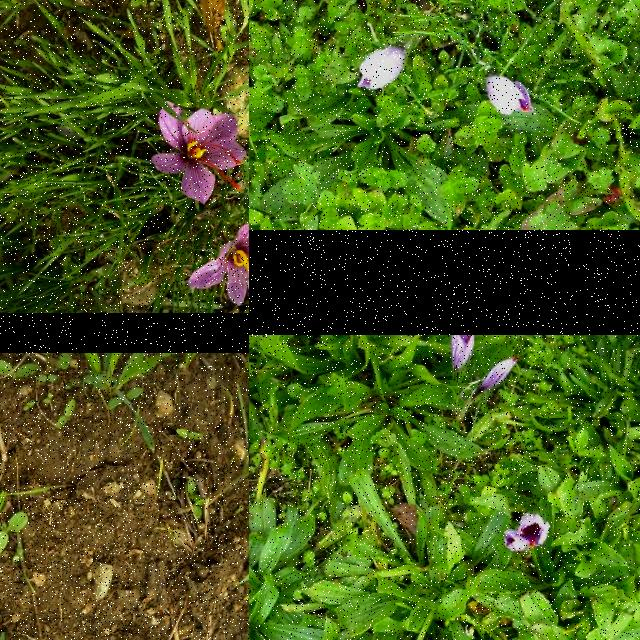flower: (152, 102, 248, 204), (187, 224, 249, 309), (358, 48, 406, 90), (488, 76, 534, 116), (482, 355, 520, 393), (452, 336, 476, 372)
overlap: (503, 514, 549, 552)
